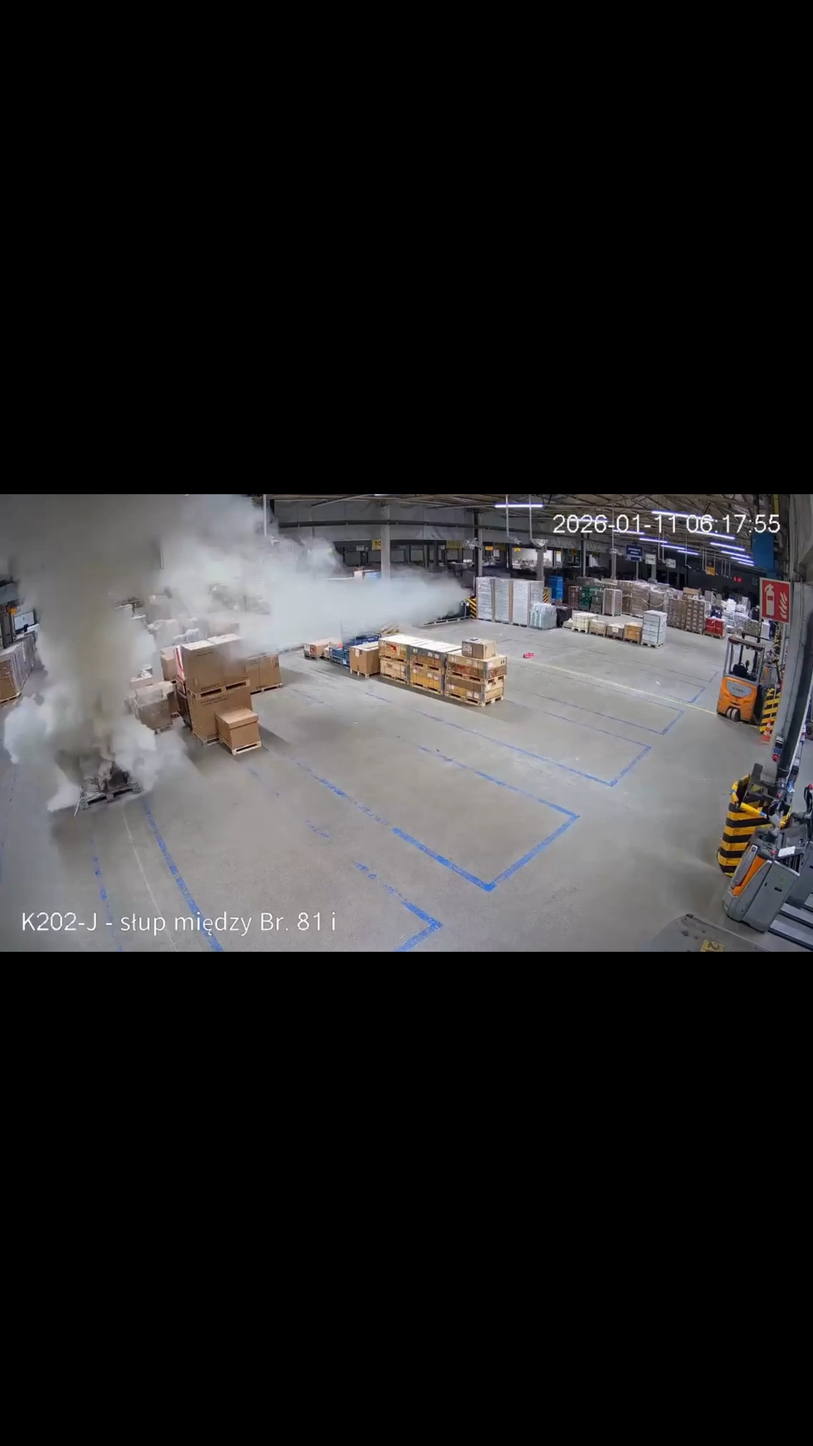smoke: (0, 494, 469, 815)
